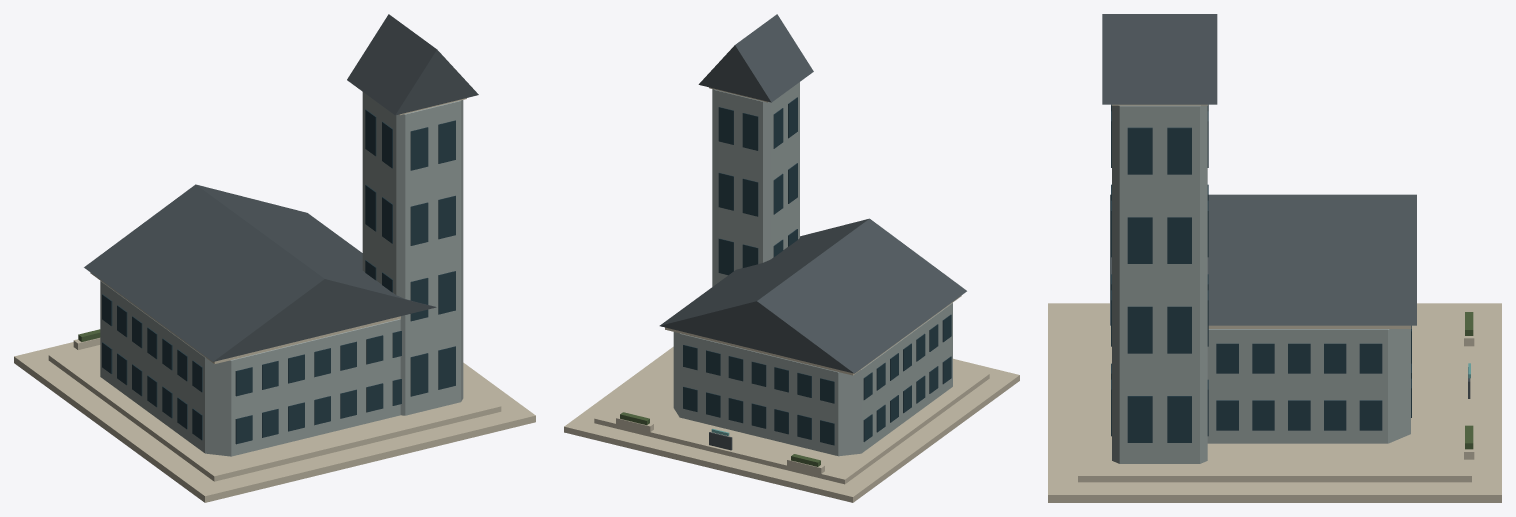
The model's file is leader.glb.
The picture shows the model from 3 angles, left to right: view 1: azimuth 30°, elevation 25°; view 2: azimuth 150°, elevation 25°; view 3: azimuth 270°, elevation 25°; orthographic projection. The views are drawn at different scales.
Parts seen in each view (by area): view 1: assembly-roof, assembly-hall, campanile, windows, foundation, plinth, crown, roof-slabs; view 2: assembly-roof, assembly-hall, windows, foundation, campanile, plinth, crown, roof-slabs, planters; view 3: assembly-roof, plinth, campanile, foundation, windows, assembly-hall, crown, roof-slabs.
Part boxes in pixels (x1,y1,x2,y2): assembly-roof: (84, 184, 436, 361); assembly-hall: (100, 281, 400, 456); campanile: (362, 92, 463, 415); windows: (102, 109, 455, 444); foundation: (14, 342, 535, 502); plinth: (48, 345, 501, 481); crown: (347, 14, 478, 115); roof-slabs: (90, 98, 466, 363); assembly-roof: (659, 218, 966, 373); assembly-hall: (673, 303, 952, 456); windows: (683, 97, 951, 445); foundation: (564, 346, 1019, 502); campanile: (712, 82, 799, 286); plinth: (594, 360, 989, 484); crown: (698, 14, 813, 102); roof-slabs: (665, 87, 961, 375); planters: (616, 415, 824, 473); assembly-roof: (1110, 194, 1416, 325); plinth: (1078, 309, 1471, 482); campanile: (1112, 105, 1207, 463); foundation: (1048, 303, 1501, 502); windows: (1111, 104, 1411, 442); assembly-hall: (1207, 329, 1410, 443); crown: (1102, 14, 1217, 104); roof-slabs: (1111, 104, 1411, 328).
Size of the model in its own units: 15.52 by 16.79 by 15.52.
